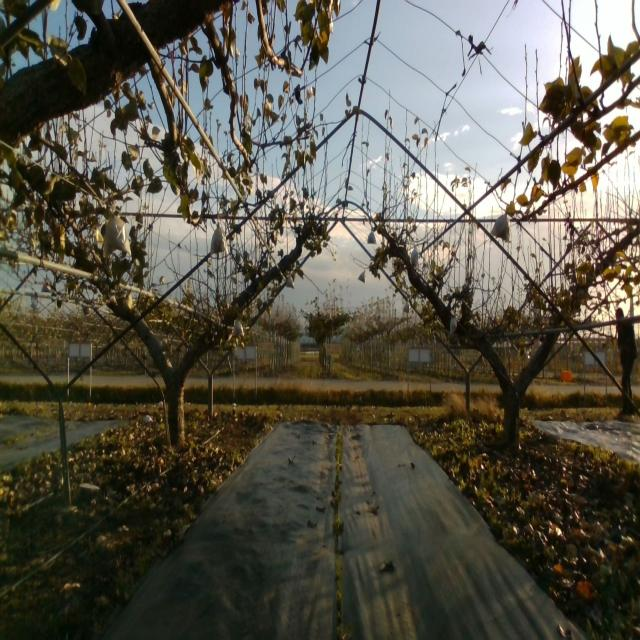pearbags: (100, 205, 133, 258), (489, 210, 512, 242), (210, 222, 228, 258), (232, 319, 245, 339)
